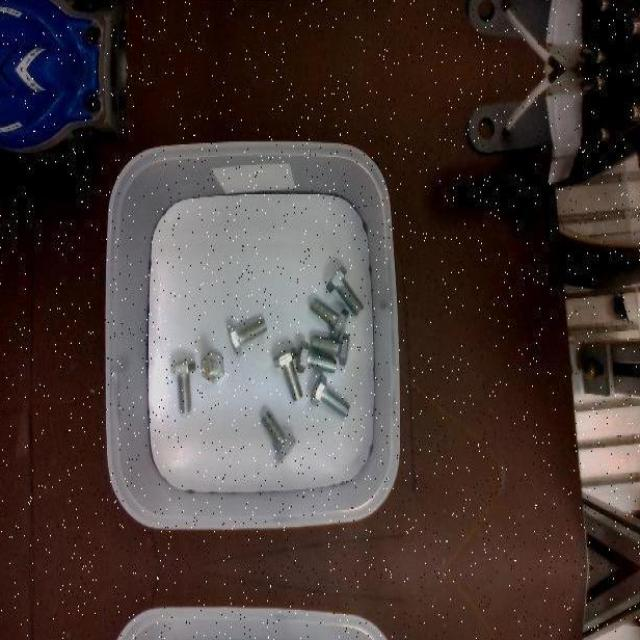screw: (326, 264, 364, 315), (262, 409, 297, 461), (311, 373, 350, 417), (310, 297, 349, 340), (274, 345, 304, 400), (229, 318, 268, 357), (170, 358, 197, 412), (297, 340, 337, 373), (312, 334, 350, 366), (202, 351, 224, 384)
